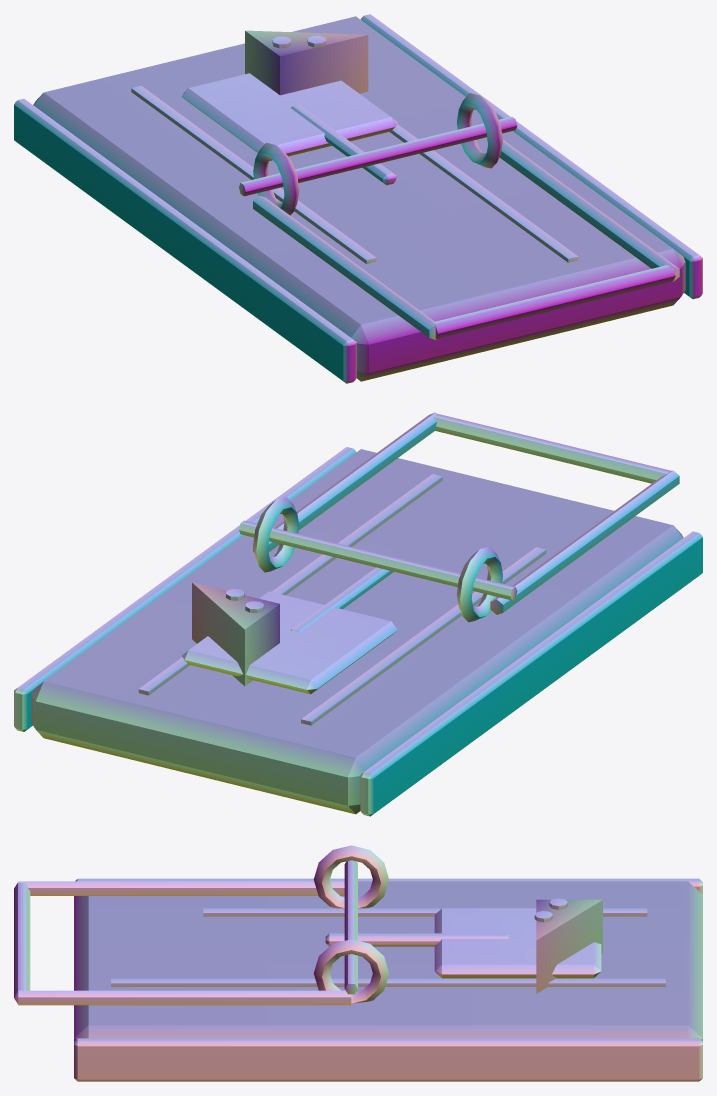
File: gad_trap.glb
3 views of the same model, one above another, from view 1: azimuth 30°, elevation 25°; view 2: azimuth 150°, elevation 25°; view 3: azimuth 270°, elevation 25° (orthographic). The views are drawn at different scales.
Visible parts, largest first — view 1: trap; view 2: trap; view 3: trap.
Part boxes in pixels (box(x1,y1,x2,y2)): trap: box(14, 14, 702, 383); trap: box(14, 412, 702, 816); trap: box(14, 845, 702, 1081).
Bounding box in the file's own units: 0.106 × 0.0342 × 0.1862.
